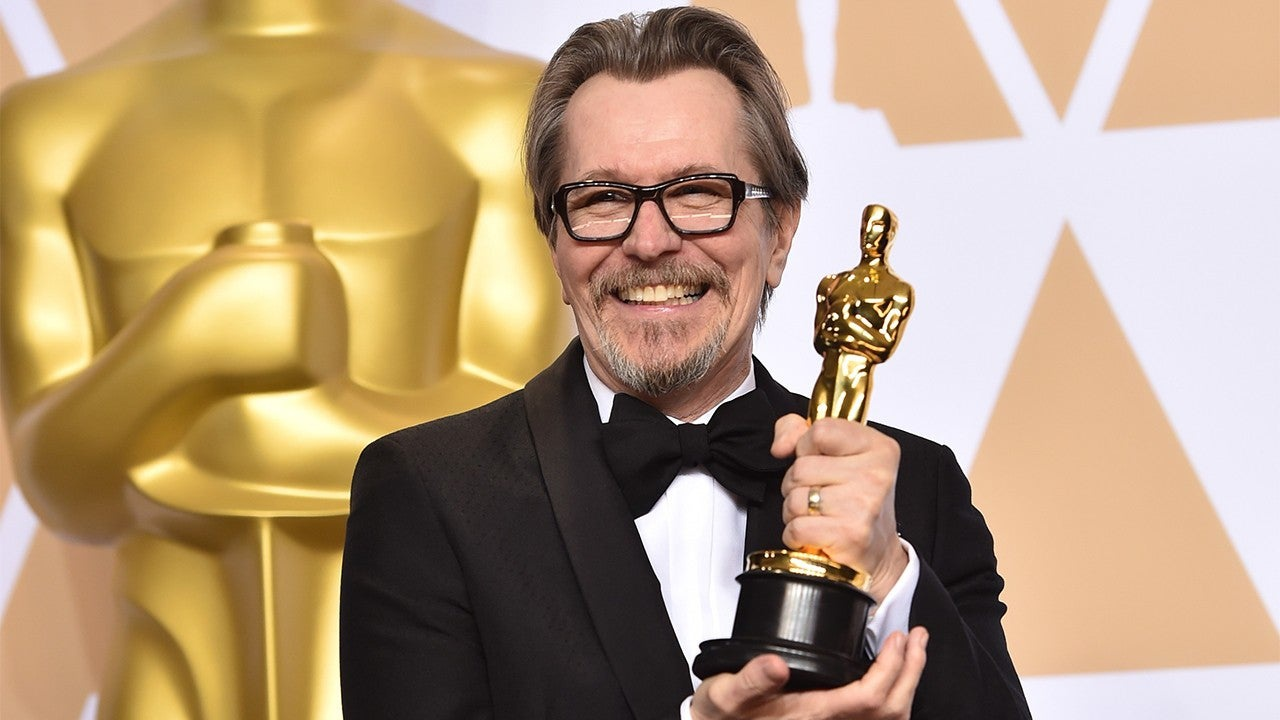bad: (538, 142, 761, 365)
